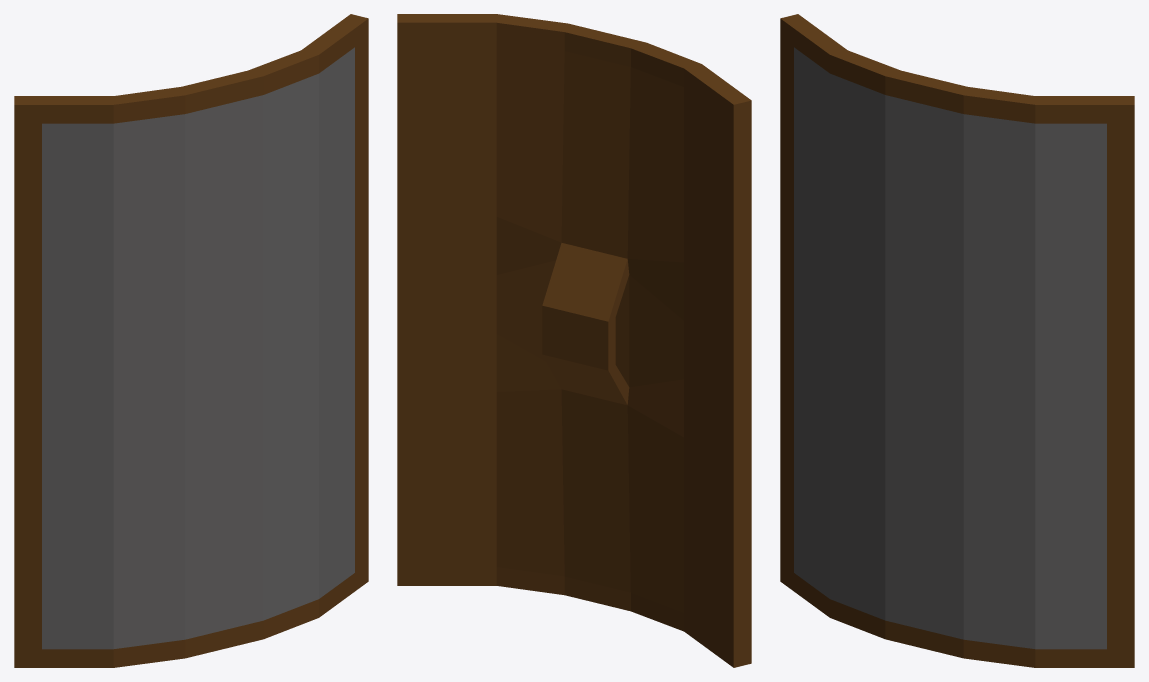
The model's file is IronSquareShield.glb.
3 renders of one model, left to right at view 1: azimuth 30°, elevation 25°; view 2: azimuth 150°, elevation 25°; view 3: azimuth 330°, elevation 25°, orthographic.
Parts seen in each view (by area): view 1: SqShield; view 2: SqShield; view 3: SqShield.
Boxes of the visible parts, <box> form: SqShield: <box>14,14,368,667</box>; SqShield: <box>397,14,751,667</box>; SqShield: <box>780,14,1134,667</box>.
Size of the model in its own units: 0.3953 by 0.6 by 0.0811.
